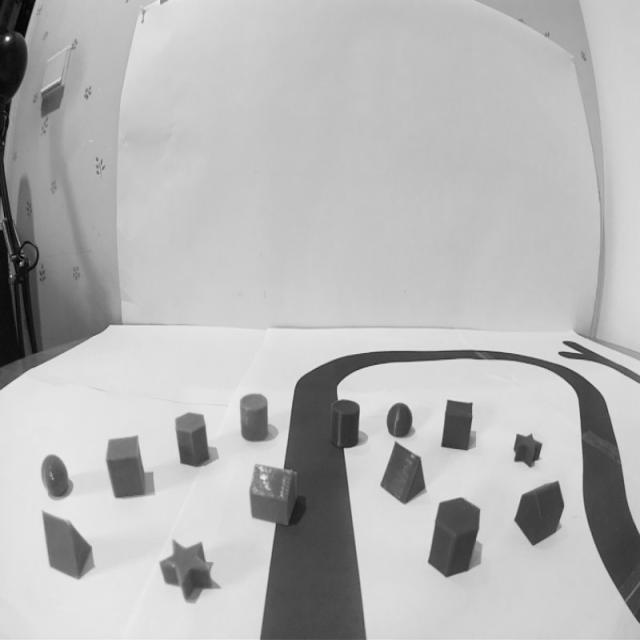ball: (38, 452, 74, 497), (385, 399, 416, 439)
cube: (104, 434, 148, 500), (439, 394, 475, 454)
cylinder: (326, 398, 362, 452), (238, 391, 269, 444)
hexagon: (428, 498, 482, 578), (174, 410, 212, 468)
home: (514, 479, 564, 548), (249, 464, 298, 527)
lineStraight: (251, 471, 373, 640)
star: (160, 538, 217, 604), (511, 430, 545, 469)
triangle: (41, 512, 94, 580), (381, 442, 426, 505)
